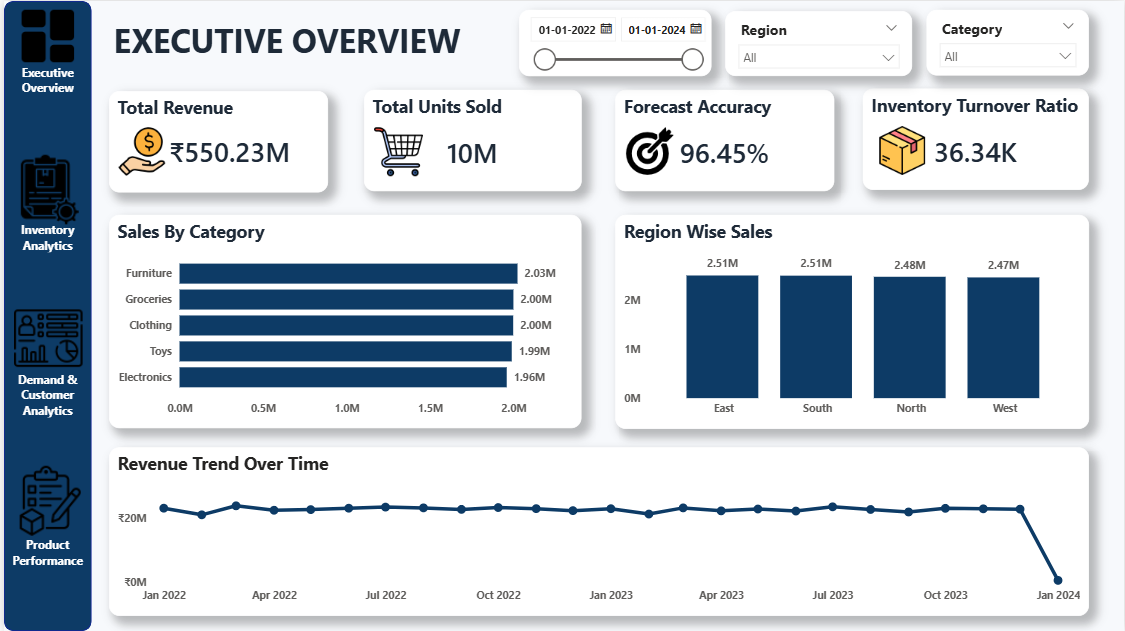

What the dashboard file says about the page in this screenshot:
{"tool":"powerbi","page":{"name":"Executive Overview","canvas":[1280,720],"ordinal":0},"visuals":[{"type":"shape","title":"Sidebar","box":[0,0,100,720],"z":0},{"type":"textbox","box":[120.3,13.7,414.3,75.7],"z":1000},{"type":"cardVisual","title":"Total Revenue","fields":{"Data":["Retail Inventory.Total Revenue"]},"box":[120.3,102.3,250,115.7],"z":2000},{"type":"cardVisual","title":"Total Units Sold","fields":{"Data":["Retail Inventory.Total Units Sold"]},"box":[411.7,100.9,248.6,115.7],"z":3000},{"type":"cardVisual","title":"Forecast Accuracy","fields":{"Data":["Retail Inventory.Forecast Accuracy"]},"box":[698.8,100.9,250,115.7],"z":4000},{"type":"cardVisual","title":"Inventory Turnover Ratio","fields":{"Data":["Retail Inventory.Inventory Turnover Ratio"]},"box":[982,100.7,258.8,116.2],"z":5000},{"type":"image","box":[130.3,143.7,55,55.7],"z":6000},{"type":"image","box":[423.1,143.7,55.7,55.7],"z":7000},{"type":"image","box":[710.3,143.7,55.7,54.3],"z":8000},{"type":"image","box":[998.3,143.2,56.2,56.2],"z":9000},{"type":"clusteredBarChart","title":"Sales By Category","fields":{"Category":["Retail Inventory.category"],"Y":["Retail Inventory.Total Units Sold"]},"box":[120.3,243.7,540,244.3],"z":10000},{"type":"clusteredColumnChart","title":"Region Wise Sales","fields":{"Category":["Retail Inventory.region"],"Y":["Retail Inventory.Total Units Sold"]},"box":[698.8,243.7,541.4,245],"z":11000},{"type":"lineChart","title":"Revenue Trend Over Time","fields":{"Y":["Retail Inventory.Total Revenue"],"Category":["Retail Inventory.date.Variation.Date Hierarchy.Year","Retail Inventory.date.Variation.Date Hierarchy.Month"]},"box":[119.5,509.5,1120,192.5],"z":12000},{"type":"slicer","fields":{"Values":["Retail Inventory.date"]},"box":[588.8,10.5,220,75.7],"z":13000},{"type":"slicer","fields":{"Values":["Retail Inventory.region"]},"box":[824.5,11.3,213.6,74.5],"z":14000},{"type":"slicer","fields":{"Values":["Retail Inventory.category"]},"box":[1054.5,10.5,185.7,75],"z":15000},{"type":"pageNavigator","box":[0,0,100,720],"z":16000},{"type":"image","box":[6.2,10,88.8,60],"z":17000},{"type":"image","box":[10,143.8,85,142.5],"z":18000},{"type":"image","box":[11.2,336.2,78.8,98.8],"z":19000},{"type":"image","box":[12.5,487.5,80,167.5],"z":20000}]}

Visuals, with their boxes in screenshot pixels (x1, y1, x2, y2), scaled from the page's 1280x720 canvas onto the 1125x631 screenshot:
"Sidebar" shape: {"left": 0, "top": 0, "right": 88, "bottom": 630}
textbox: {"left": 106, "top": 12, "right": 470, "bottom": 78}
"Total Revenue" cardVisual: {"left": 106, "top": 90, "right": 325, "bottom": 191}
"Total Units Sold" cardVisual: {"left": 362, "top": 88, "right": 580, "bottom": 190}
"Forecast Accuracy" cardVisual: {"left": 614, "top": 88, "right": 834, "bottom": 190}
"Inventory Turnover Ratio" cardVisual: {"left": 863, "top": 88, "right": 1091, "bottom": 190}
image: {"left": 115, "top": 126, "right": 163, "bottom": 175}
image: {"left": 372, "top": 126, "right": 421, "bottom": 175}
image: {"left": 624, "top": 126, "right": 673, "bottom": 174}
image: {"left": 877, "top": 125, "right": 927, "bottom": 175}
"Sales By Category" clusteredBarChart: {"left": 106, "top": 214, "right": 580, "bottom": 428}
"Region Wise Sales" clusteredColumnChart: {"left": 614, "top": 214, "right": 1090, "bottom": 428}
"Revenue Trend Over Time" lineChart: {"left": 105, "top": 447, "right": 1089, "bottom": 615}
slicer - Retail Inventory.date: {"left": 518, "top": 9, "right": 711, "bottom": 76}
slicer - Retail Inventory.region: {"left": 725, "top": 10, "right": 912, "bottom": 75}
slicer - Retail Inventory.category: {"left": 927, "top": 9, "right": 1090, "bottom": 75}
pageNavigator: {"left": 0, "top": 0, "right": 88, "bottom": 630}
image: {"left": 5, "top": 9, "right": 83, "bottom": 61}
image: {"left": 9, "top": 126, "right": 83, "bottom": 251}
image: {"left": 10, "top": 295, "right": 79, "bottom": 381}
image: {"left": 11, "top": 427, "right": 81, "bottom": 574}
